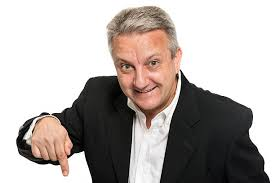hand: (24, 111, 84, 181)
